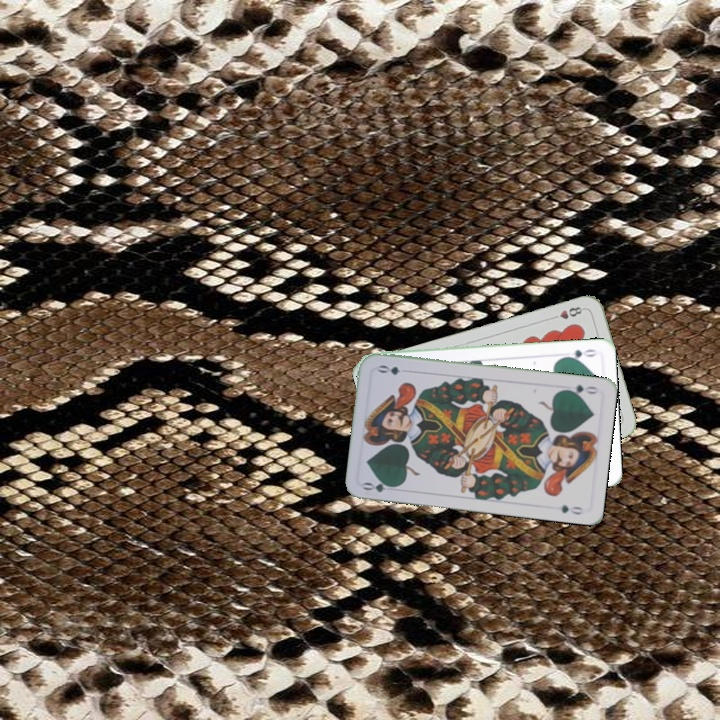GO: (359, 477, 400, 495), (559, 345, 599, 363), (560, 380, 600, 398)
H8: (547, 302, 587, 322)
